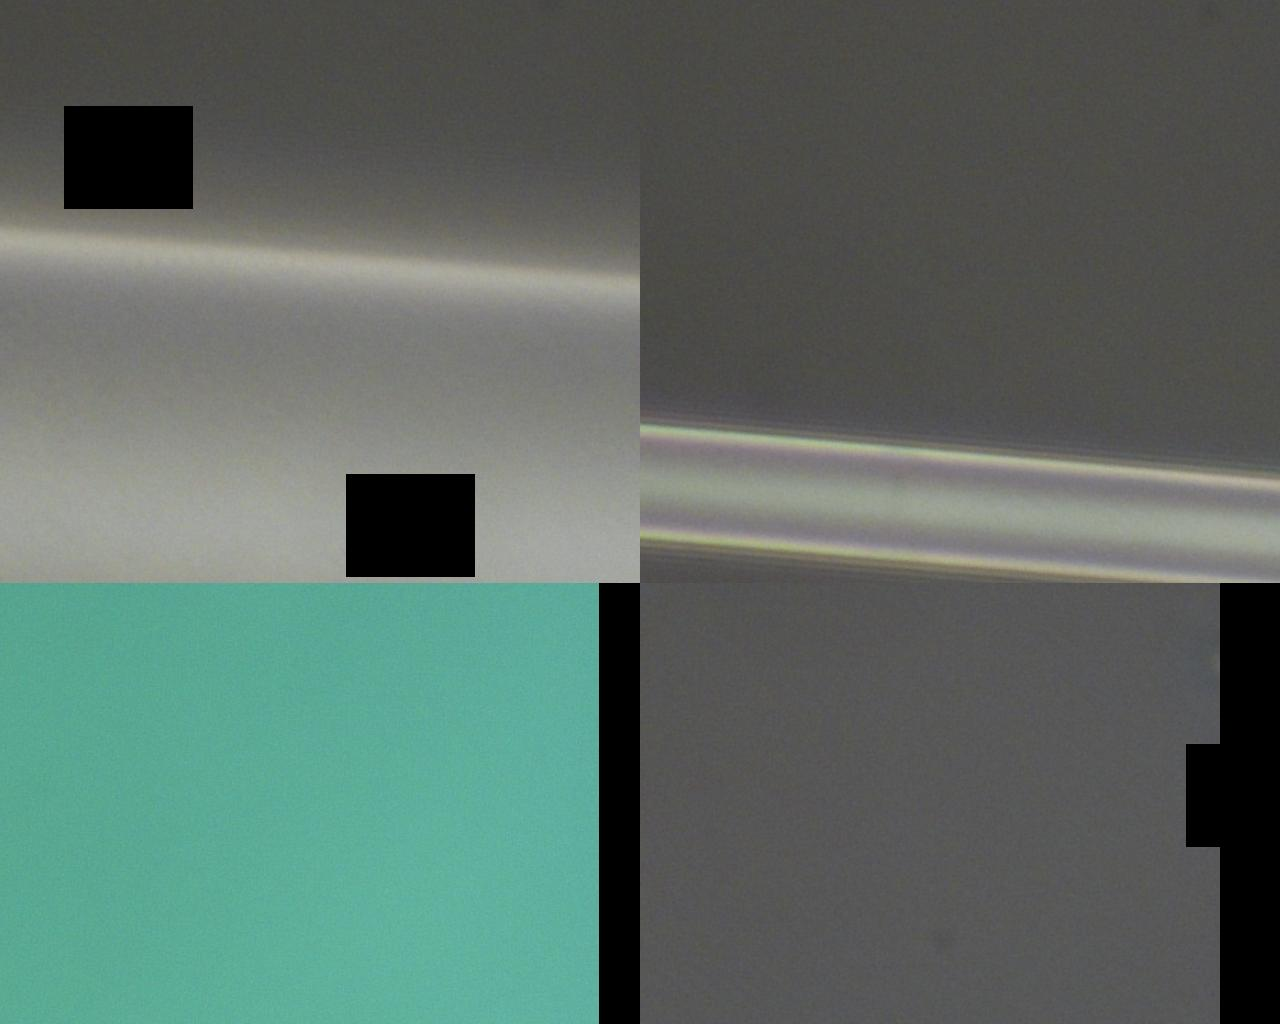fiber: (0, 489, 779, 530), (779, 534, 1280, 584)
